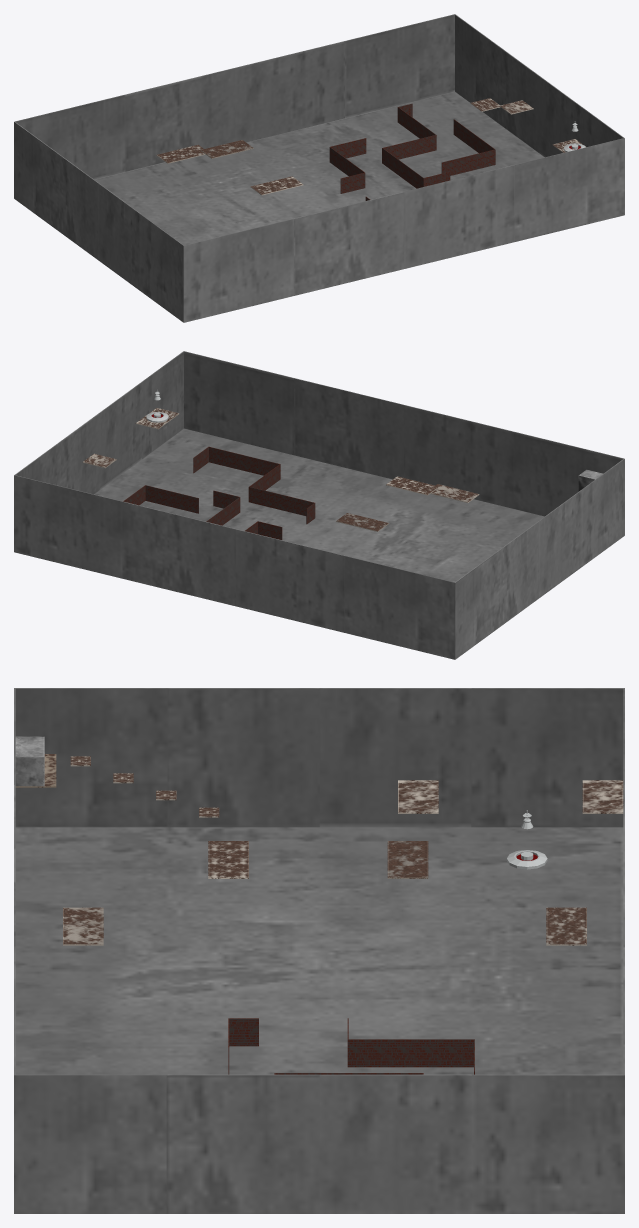
Rendered from Map Arena v1.glb.
3 renders of one model, top to bottom at view 1: azimuth 30°, elevation 25°; view 2: azimuth 150°, elevation 25°; view 3: azimuth 270°, elevation 25°, orthographic. The views are drawn at different scales.
Parts seen in each view (by area): view 1: start_room-col; view 2: start_room-col; view 3: start_room-col.
Part boxes in pixels (x1,y1,x2,y2): start_room-col: [14, 14, 624, 322]; start_room-col: [14, 351, 624, 659]; start_room-col: [14, 688, 624, 1213].
Bounding box in the file's own units: 90.02 × 15 × 60.
22 materials, 16 textured.
